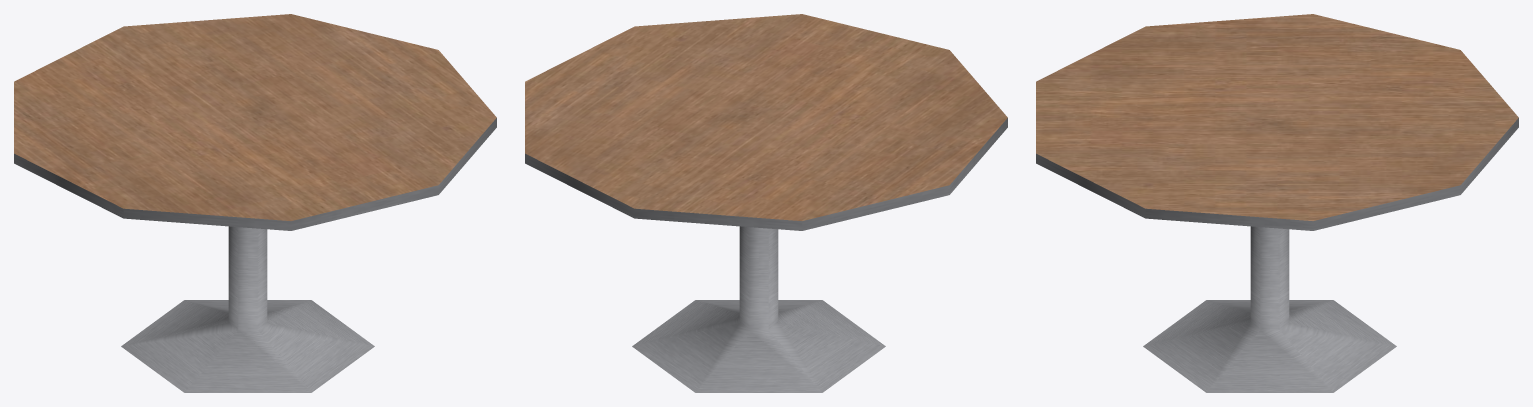
The model's file is Table_02-col.glb.
The picture shows the model from 3 angles, left to right: view 1: azimuth 30°, elevation 25°; view 2: azimuth 150°, elevation 25°; view 3: azimuth 270°, elevation 25°; orthographic projection.
Visible parts, largest first — view 1: Table_02-col; view 2: Table_02-col; view 3: Table_02-col.
Part boxes in pixels (left/top/right/bottom): Table_02-col: left=14, top=14, right=496, bottom=392; Table_02-col: left=525, top=14, right=1007, bottom=392; Table_02-col: left=1036, top=14, right=1518, bottom=392.
Size of the model in its own units: 1.73 by 0.8887 by 1.7.
Materials: 2 (2 with a texture image).
